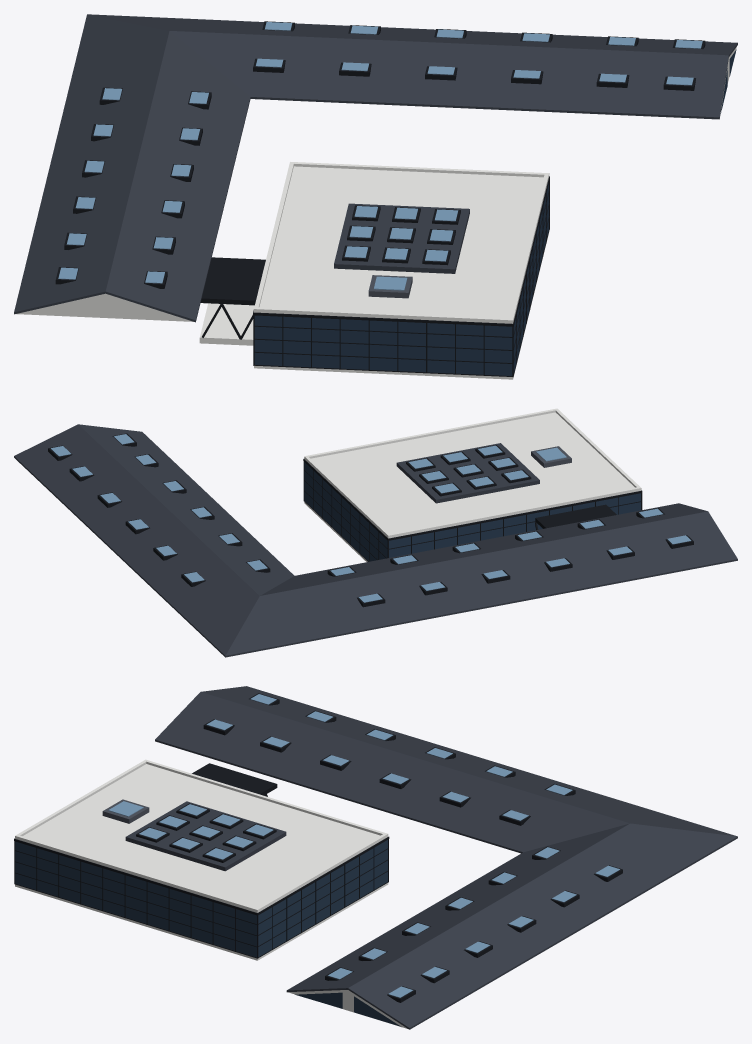
Rendered from merkez_kutuphane.glb.
3 renders of one model, top to bottom at view 1: azimuth 30°, elevation 25°; view 2: azimuth 150°, elevation 25°; view 3: azimuth 270°, elevation 25°, orthographic. The views are drawn at different scales.
Visible parts, largest first — view 1: merkez_kutuphane; view 2: merkez_kutuphane; view 3: merkez_kutuphane.
Part boxes in pixels (box(x1,y1,x2,y2)): merkez_kutuphane: box(14, 14, 737, 379); merkez_kutuphane: box(14, 408, 737, 657); merkez_kutuphane: box(14, 686, 737, 1029).
Size of the model in its own units: 98.58 by 9.39 by 88.2.
